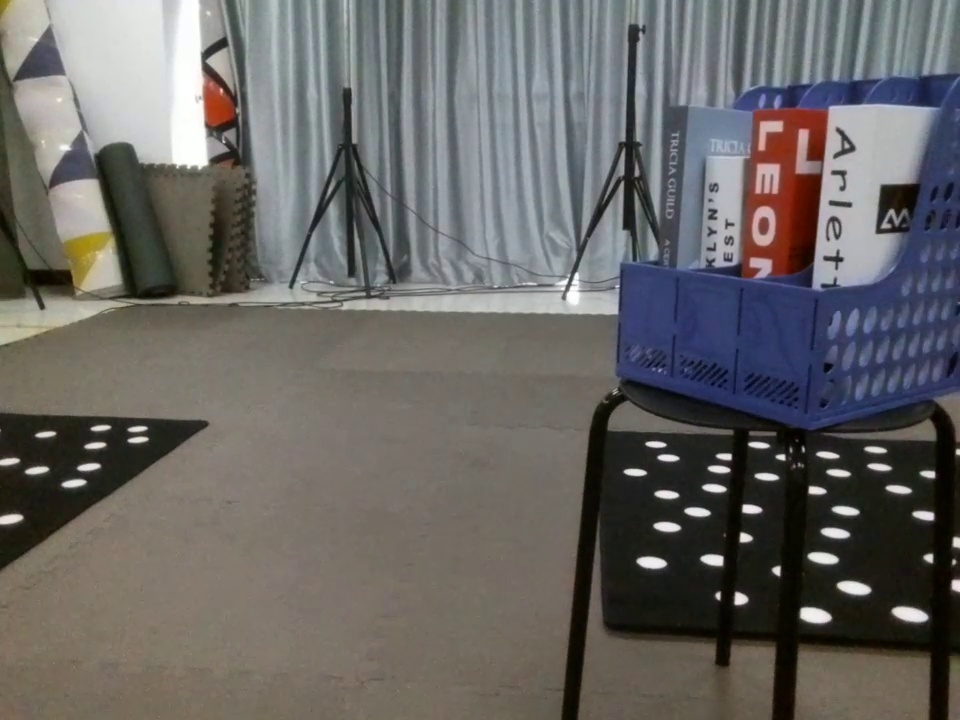files: (602, 61, 960, 433)
